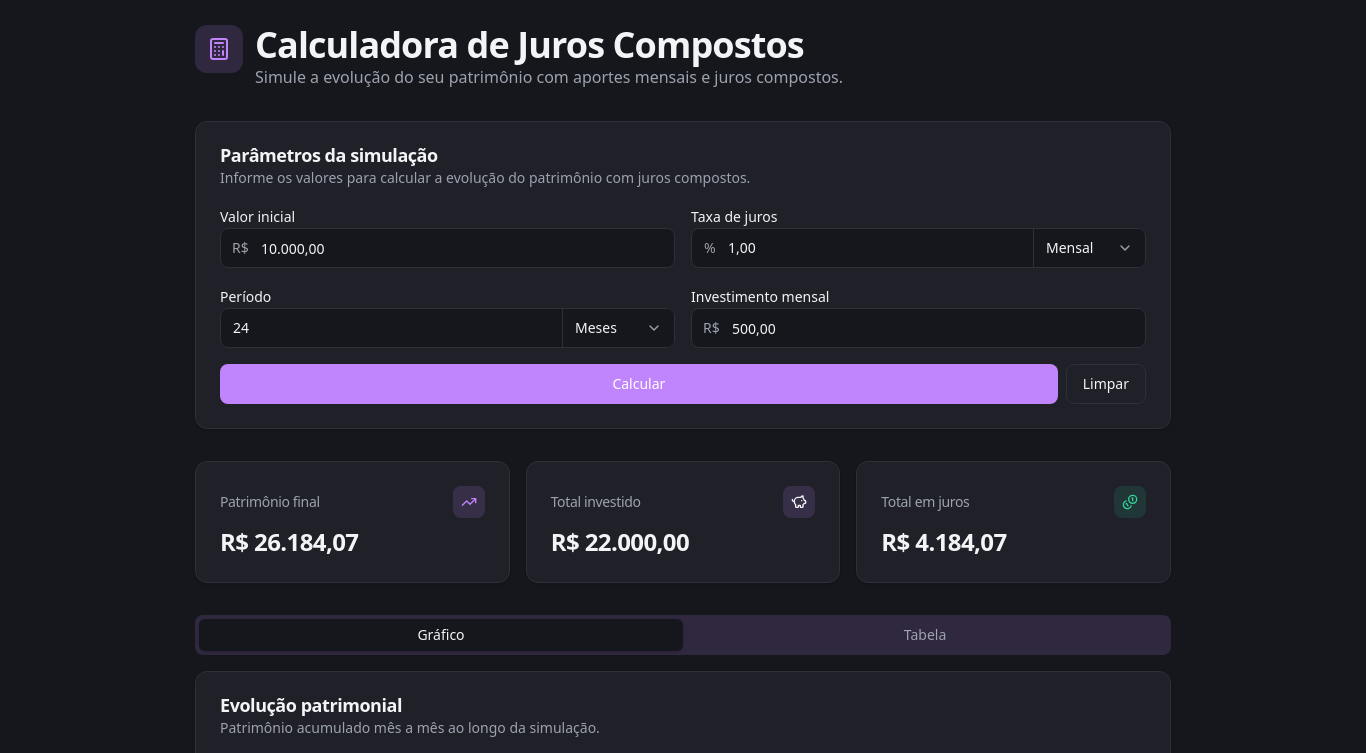
Test: CalculatorPage › alterna entre gráfico e tabela de evolução
This screenshot has width=1366, height=753.
Expected: the heading "Evolução patrimonial" is shown, [220, 693, 402, 717]
What coordinates should you click on to do the following:
click the tab "Tabela"
I would click on:
 (925, 635)
Its box is [683, 619, 1167, 651].
(page scrolled)
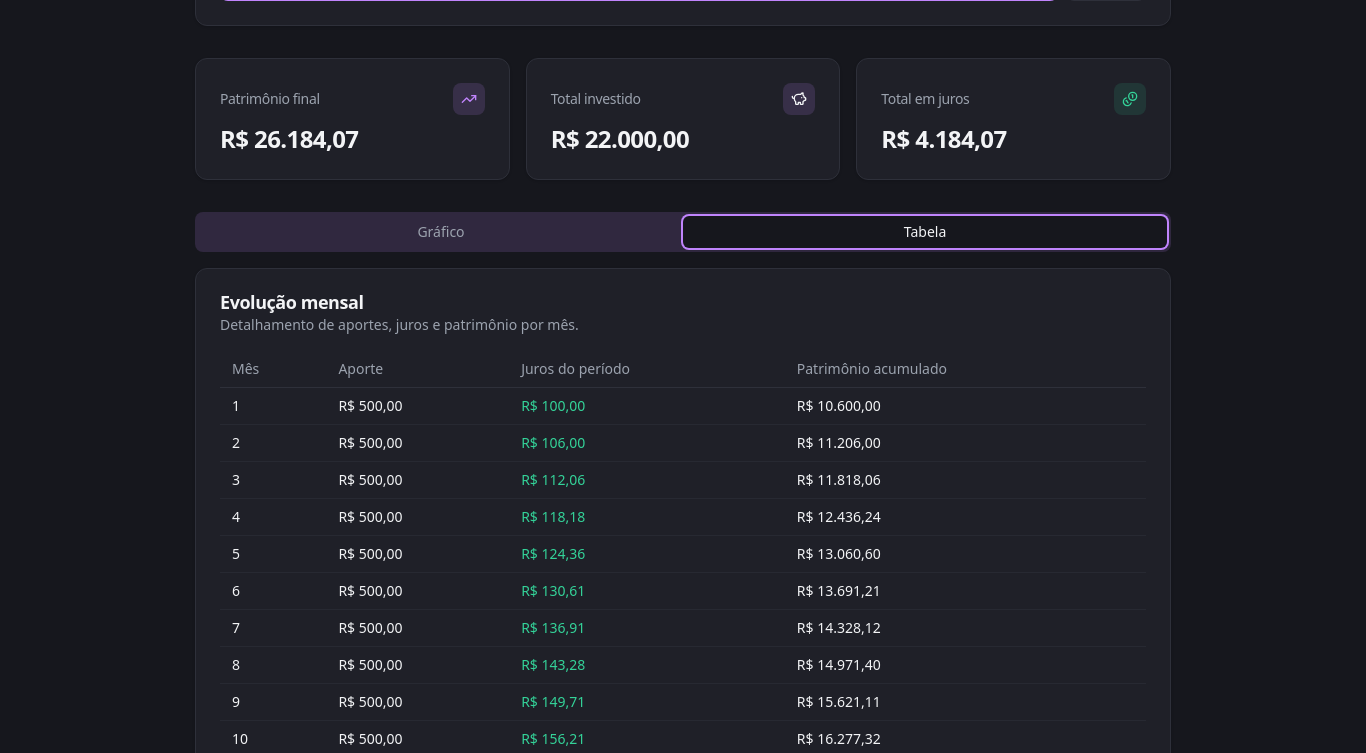
Expected: the column heading "Mês" is shown, [220, 351, 326, 388]
Now the column heading "Aporte" is shown, box [326, 351, 509, 388]
Now the column heading "Juros do período" is shown, box [509, 351, 785, 388]
